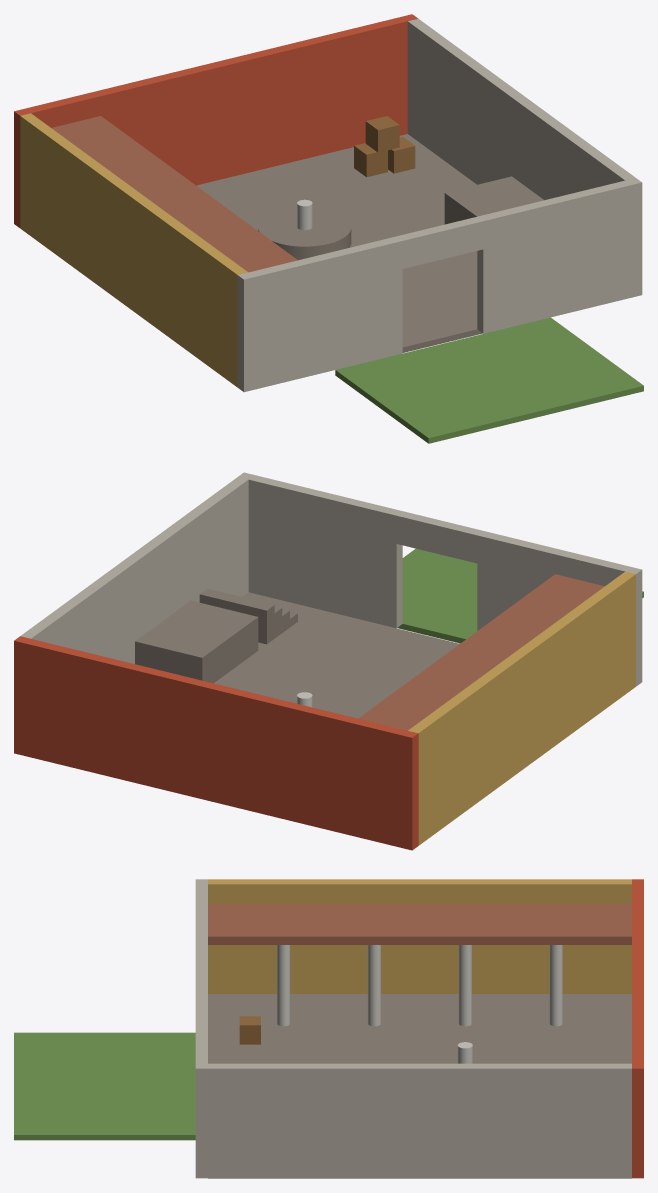
Rendered from hof.glb.
3 views of the same model, one above another, from view 1: azimuth 30°, elevation 25°; view 2: azimuth 150°, elevation 25°; view 3: azimuth 270°, elevation 25° (orthographic). The views are drawn at different scales.
Parts seen in each view (by area): view 1: Hof; view 2: Hof; view 3: Hof.
Boxes of the visible parts, x1,y1,x2,y2 form: Hof: [14, 14, 643, 443]; Hof: [14, 472, 643, 850]; Hof: [14, 879, 643, 1178].
Size of the model in its own units: 14.8 by 4.2 by 20.8.
